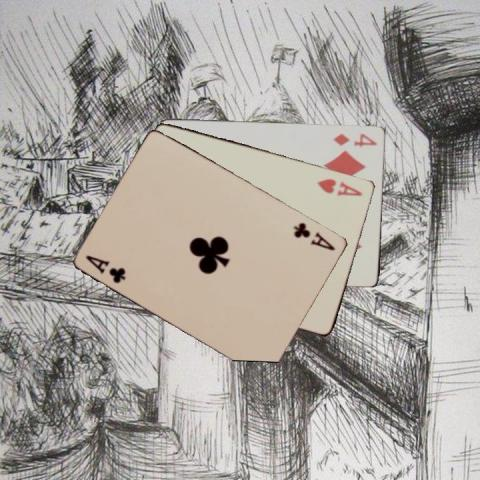4d: (330, 131, 378, 148)
Ac: (290, 219, 336, 252), (83, 252, 127, 285)
Ah: (315, 176, 364, 198)
